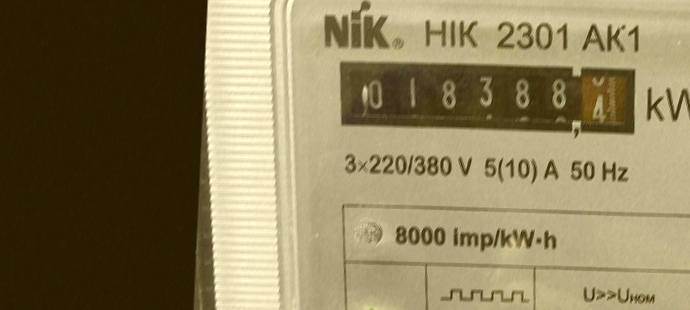0: (366, 75, 387, 112)
1: (404, 72, 424, 110)
3: (477, 73, 499, 109)
4: (589, 90, 611, 124)
8: (549, 74, 572, 111), (439, 74, 461, 111), (513, 76, 534, 112)
screen: (330, 45, 651, 150)
